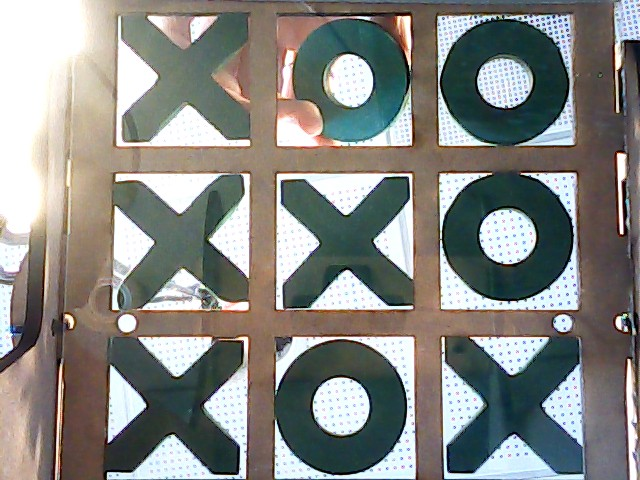O: (275, 338, 418, 480), (438, 172, 578, 312), (276, 14, 413, 147), (439, 16, 572, 145)
X: (110, 335, 251, 478), (441, 337, 585, 474), (276, 170, 415, 308), (113, 175, 249, 310), (116, 13, 248, 145)
